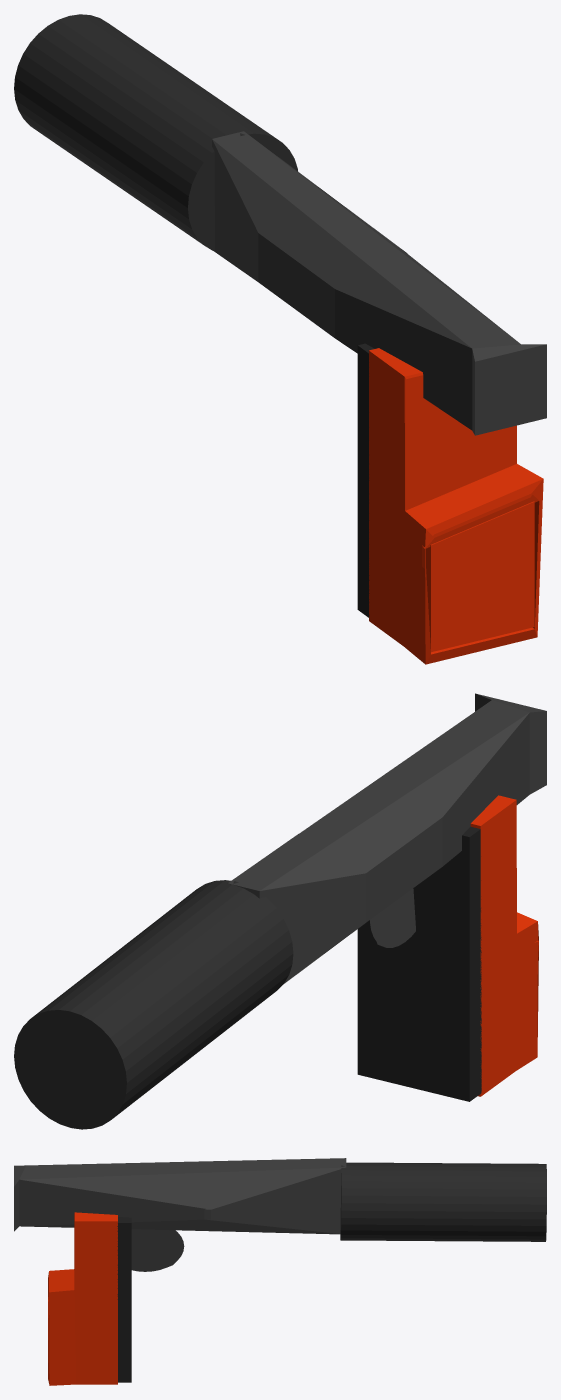
File: gun.fbx
3 views of the same model, one above another, from view 1: azimuth 30°, elevation 25°; view 2: azimuth 150°, elevation 25°; view 3: azimuth 270°, elevation 25° (orthographic). The views are drawn at different scales.
Visible parts, largest first — view 1: Cube, Cube.001, Cylinder; view 2: Cylinder, Cube, Cube.001; view 3: Cube.001, Cylinder, Cube.
Part boxes in pixels (x1,y1,x2,y2): Cube: [357, 343, 543, 664]; Cube.001: [212, 131, 546, 435]; Cylinder: [14, 14, 297, 251]; Cylinder: [14, 880, 293, 1129]; Cube: [357, 795, 538, 1101]; Cube.001: [227, 693, 546, 983]; Cube.001: [14, 1158, 346, 1271]; Cylinder: [340, 1162, 546, 1241]; Cube: [48, 1212, 131, 1385].
Size of the model in its own units: 212 by 577 by 1365.
